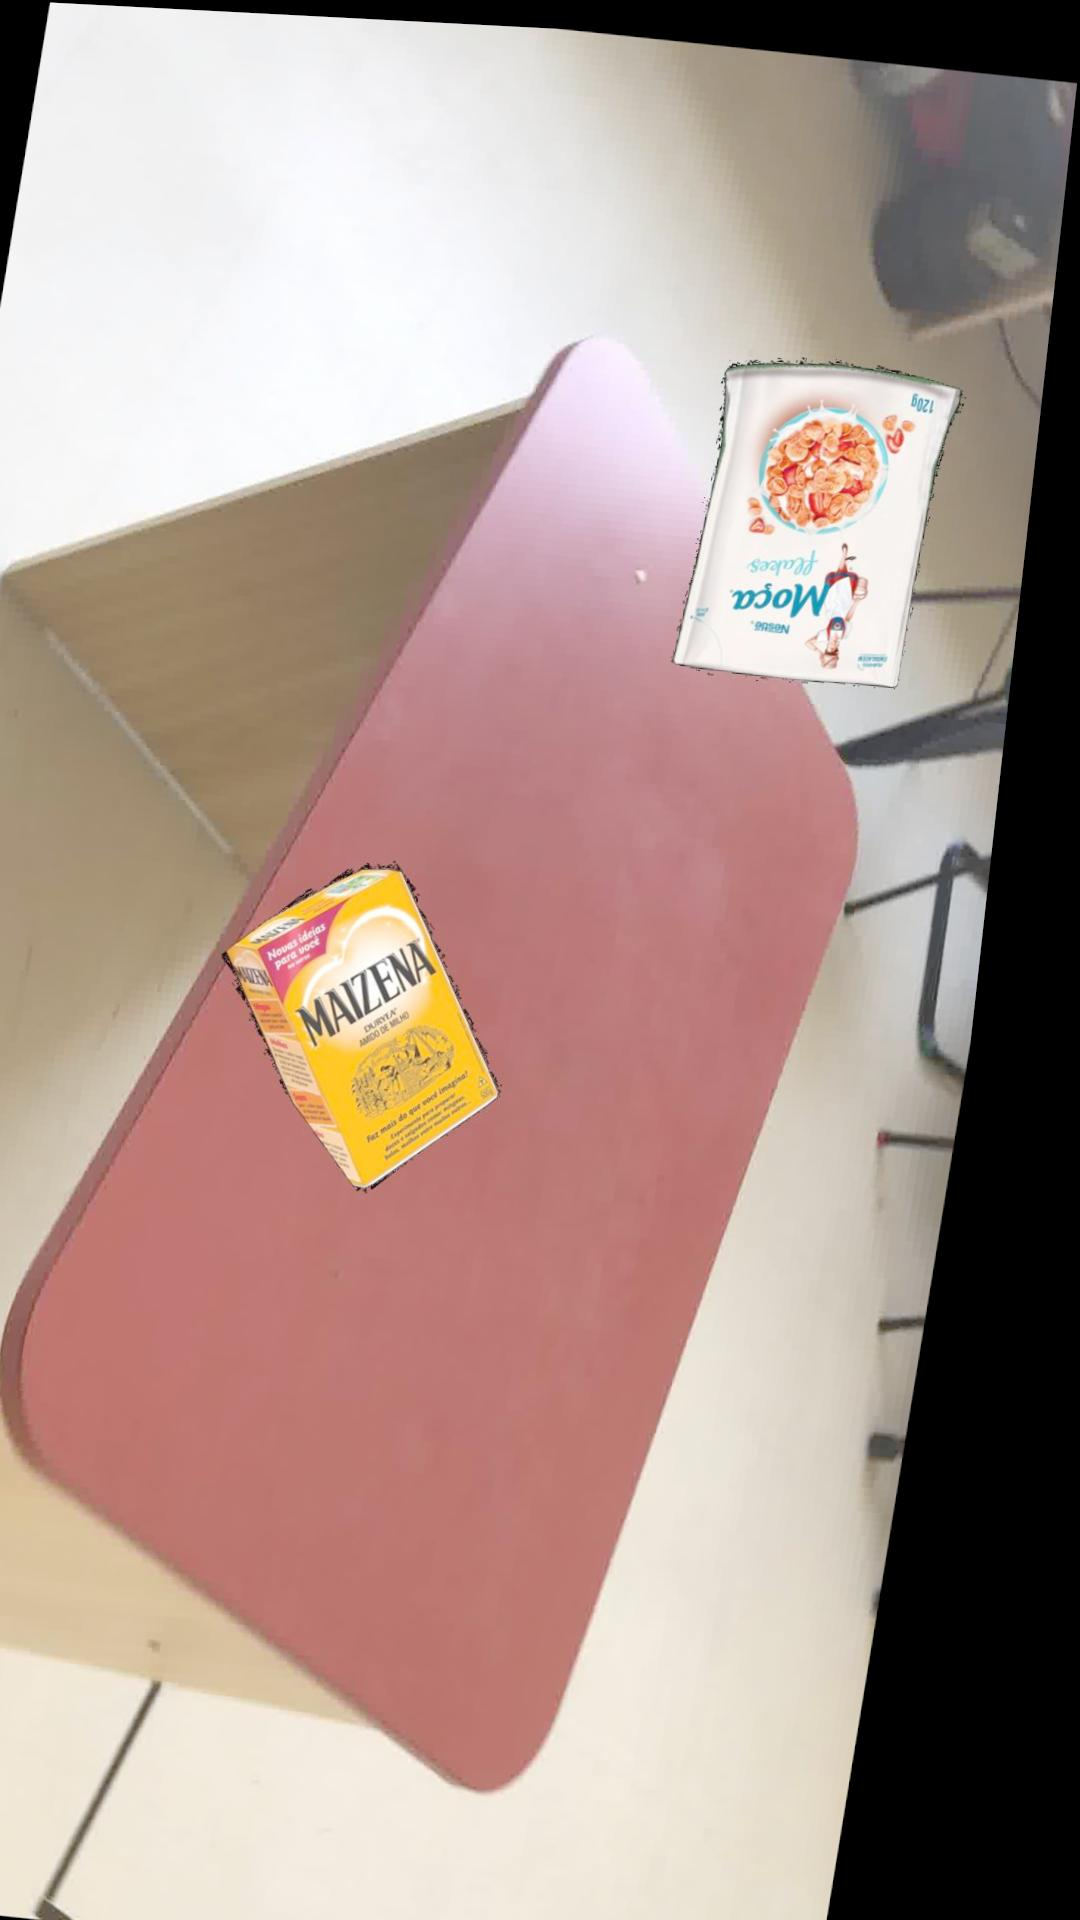corn flakes: (684, 352, 968, 678)
